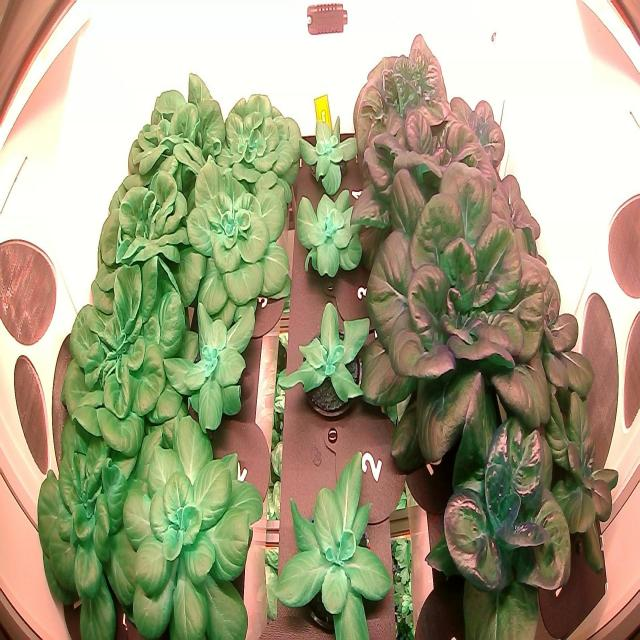Ready: (352, 158, 558, 478), (422, 406, 578, 640), (59, 253, 193, 452), (360, 91, 502, 244), (88, 161, 202, 327), (348, 25, 461, 175), (125, 69, 228, 206)
young: (117, 401, 269, 640), (29, 411, 151, 634), (270, 442, 400, 640), (177, 155, 295, 334), (532, 382, 630, 586), (160, 298, 264, 434), (276, 296, 374, 430), (509, 285, 600, 418), (462, 152, 558, 278), (214, 81, 307, 193), (436, 80, 512, 182), (293, 184, 369, 281), (296, 101, 364, 200)
